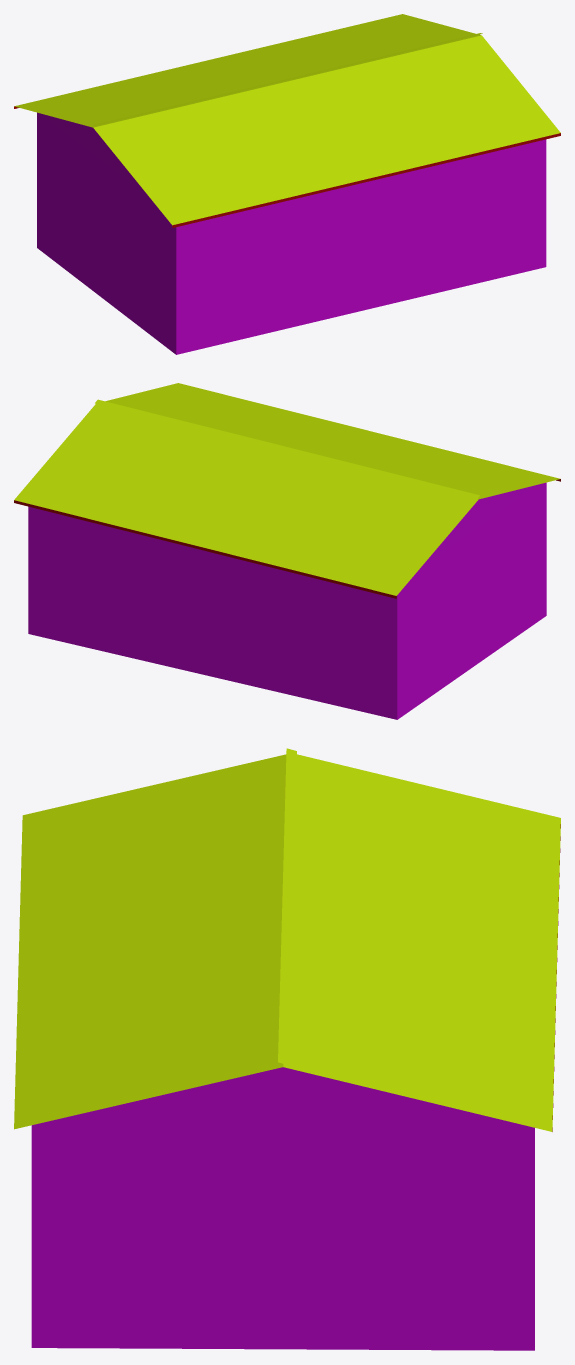
Rendered from ces_31.glb.
The picture shows the model from 3 angles, top to bottom: view 1: azimuth 30°, elevation 25°; view 2: azimuth 150°, elevation 25°; view 3: azimuth 270°, elevation 25°; orthographic projection. The views are drawn at different scales.
Parts seen in each view (by area): view 1: ces_31; view 2: ces_31; view 3: ces_31.
Part boxes in pixels (bbox=[...]): ces_31: bbox=[14, 14, 560, 354]; ces_31: bbox=[14, 383, 560, 719]; ces_31: bbox=[14, 748, 560, 1350].
Bounding box in the file's own units: 17.14 × 7.43 × 12.51.
